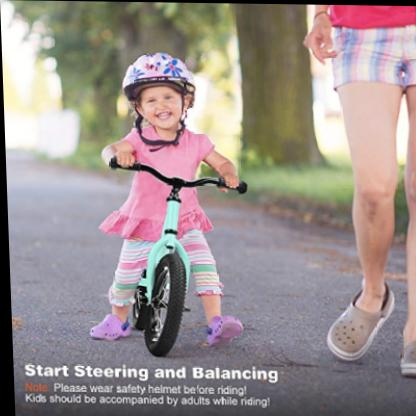With Helmet: (117, 42, 202, 132)
